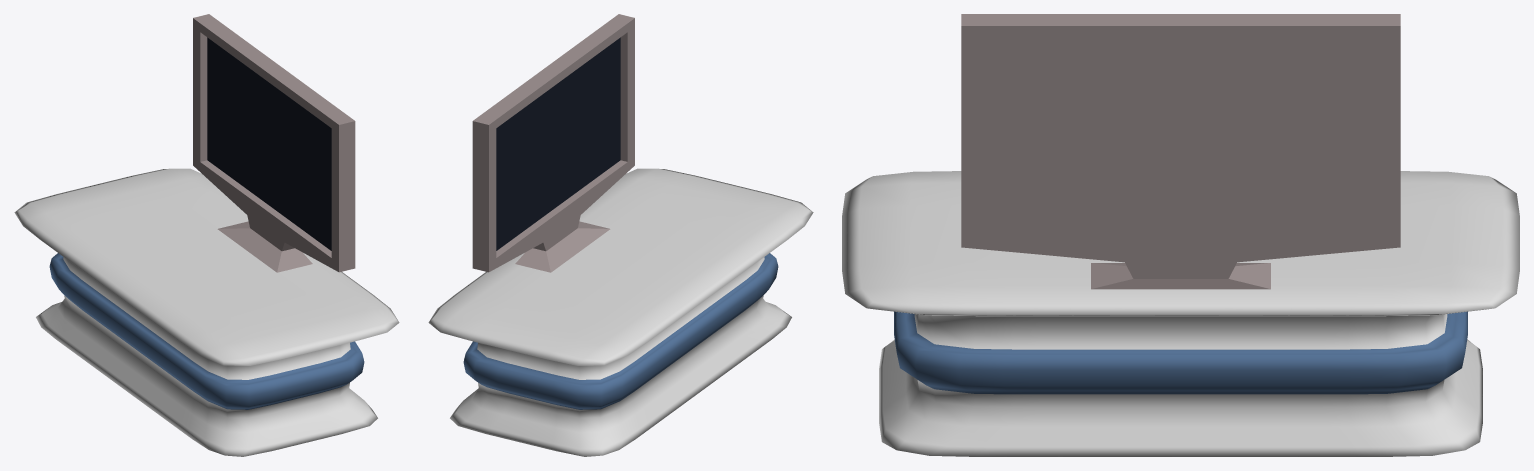
File: TaskStation.fbx
3 renders of one model, left to right at view 1: azimuth 30°, elevation 25°; view 2: azimuth 150°, elevation 25°; view 3: azimuth 270°, elevation 25°, orthographic. The views are drawn at different scales.
Parts seen in each view (by area): view 1: Table, Screen; view 2: Table, Screen; view 3: Table, Screen.
Part boxes in pixels (left/top/right/bottom): Table: left=14, top=168, right=399, bottom=456; Screen: left=193, top=14, right=355, bottom=272; Table: left=428, top=168, right=813, bottom=456; Screen: left=472, top=14, right=634, bottom=272; Table: left=842, top=171, right=1519, bottom=456; Screen: left=961, top=14, right=1400, bottom=289.
Bounding box in the file's own units: 144 × 203 × 291.
